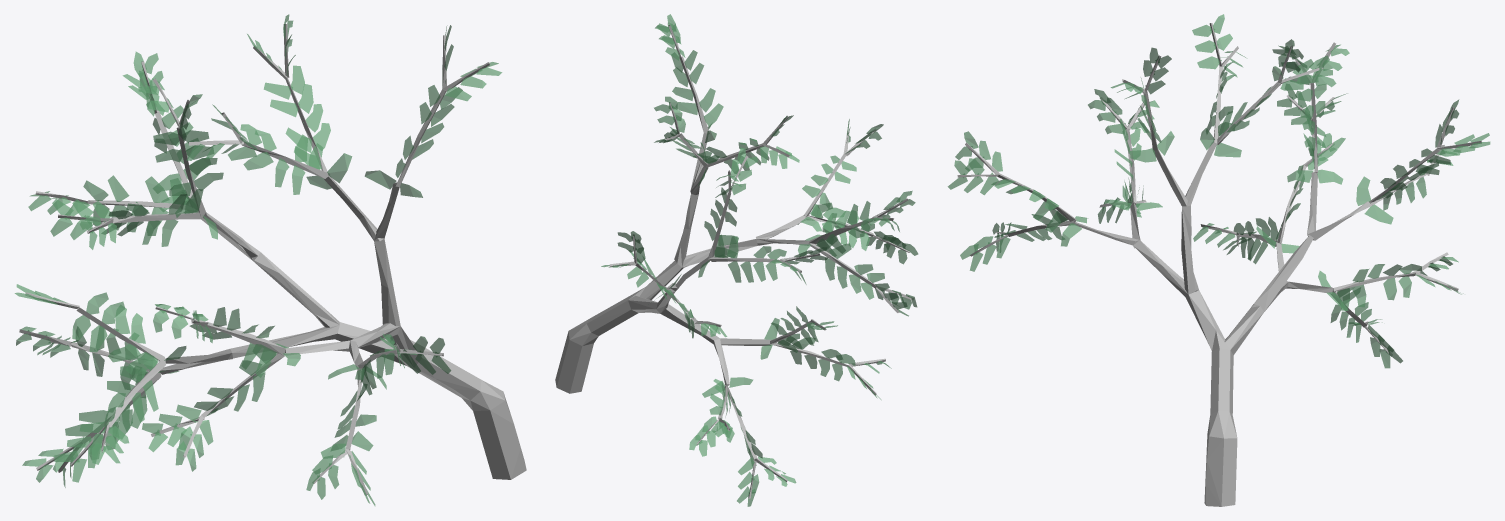
The model's file is SimpleTree.fbx.
3 views of the same model, side by side, from view 1: azimuth 30°, elevation 25°; view 2: azimuth 150°, elevation 25°; view 3: azimuth 270°, elevation 25° (orthographic). The views are drawn at different scales.
Parts seen in each view (by area): view 1: treeSimple1Leaf, treeSimple1Main; view 2: treeSimple1Leaf, treeSimple1Main; view 3: treeSimple1Leaf, treeSimple1Main.
Part boxes in pixels (box(x1,y1,x2,y2)): treeSimple1Leaf: box(14, 14, 502, 506); treeSimple1Main: box(19, 24, 526, 495); treeSimple1Leaf: box(601, 14, 918, 506); treeSimple1Main: box(555, 22, 913, 498); treeSimple1Leaf: box(947, 14, 1490, 368); treeSimple1Main: box(957, 23, 1481, 506).
Size of the model in its own units: 19.27 by 20.44 by 23.81.
